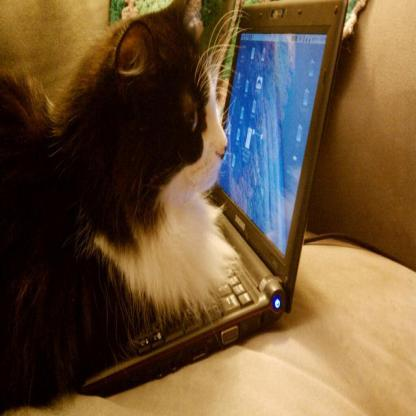board: (98, 13, 327, 393)
